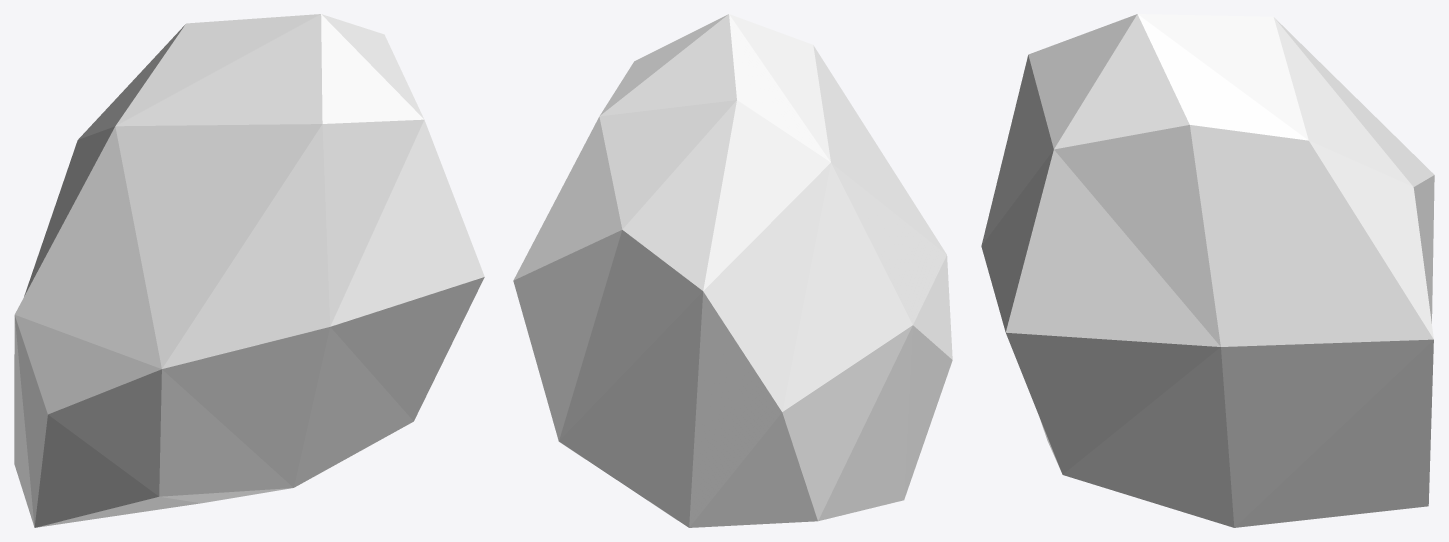
File: rock.obj
3 views of the same model, side by side, from view 1: azimuth 30°, elevation 25°; view 2: azimuth 150°, elevation 25°; view 3: azimuth 270°, elevation 25° (orthographic). The views are drawn at different scales.
Parts seen in each view (by area): view 1: rock.001; view 2: rock.001; view 3: rock.001.
Part boxes in pixels (box(x1,y1,x2,y2)): rock.001: box(14, 14, 484, 527); rock.001: box(513, 14, 952, 527); rock.001: box(981, 14, 1434, 527).
Bounding box in the file's own units: 0.9317 × 1.13 × 0.8505.
1 material, 1 textured.
